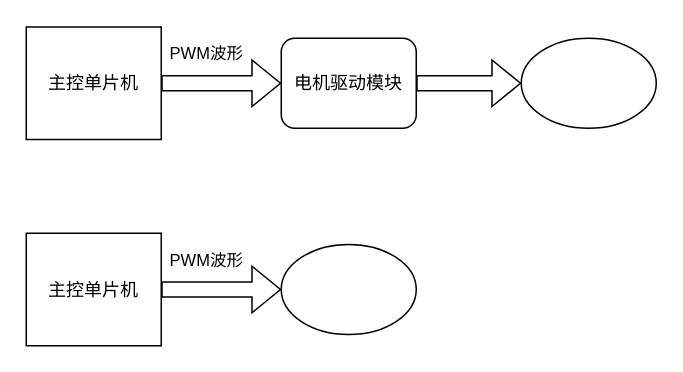
Image size: 683x372. Some labels were removed from this diagram. Each missing label, with the box of its shape:
电机: (520, 37, 656, 128)
舵机: (280, 243, 416, 334)
